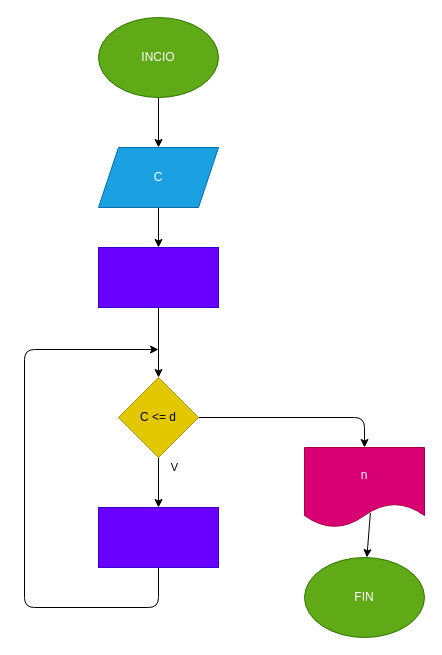
The diagram is 442 pixels wide and 655 high, and some of its shapes have lost their labels. The centre of each missing label's shape, as x and y in pixels:
C = 1.05 + C n = n +1: the point at 158,537
n = 0 d = 2* C: the point at 158,277
